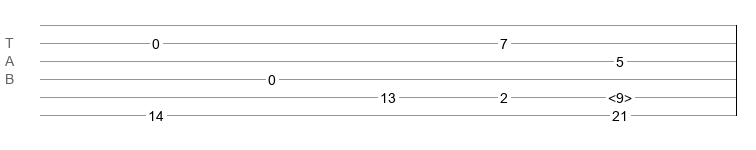0: (152, 36, 160, 46), (268, 72, 276, 82)
13: (380, 90, 396, 100)
14: (148, 108, 164, 118)
2: (500, 90, 508, 100)
21: (612, 108, 628, 118)
5: (616, 54, 624, 64)
7: (500, 36, 508, 46)
harmonic: (608, 90, 632, 100)
